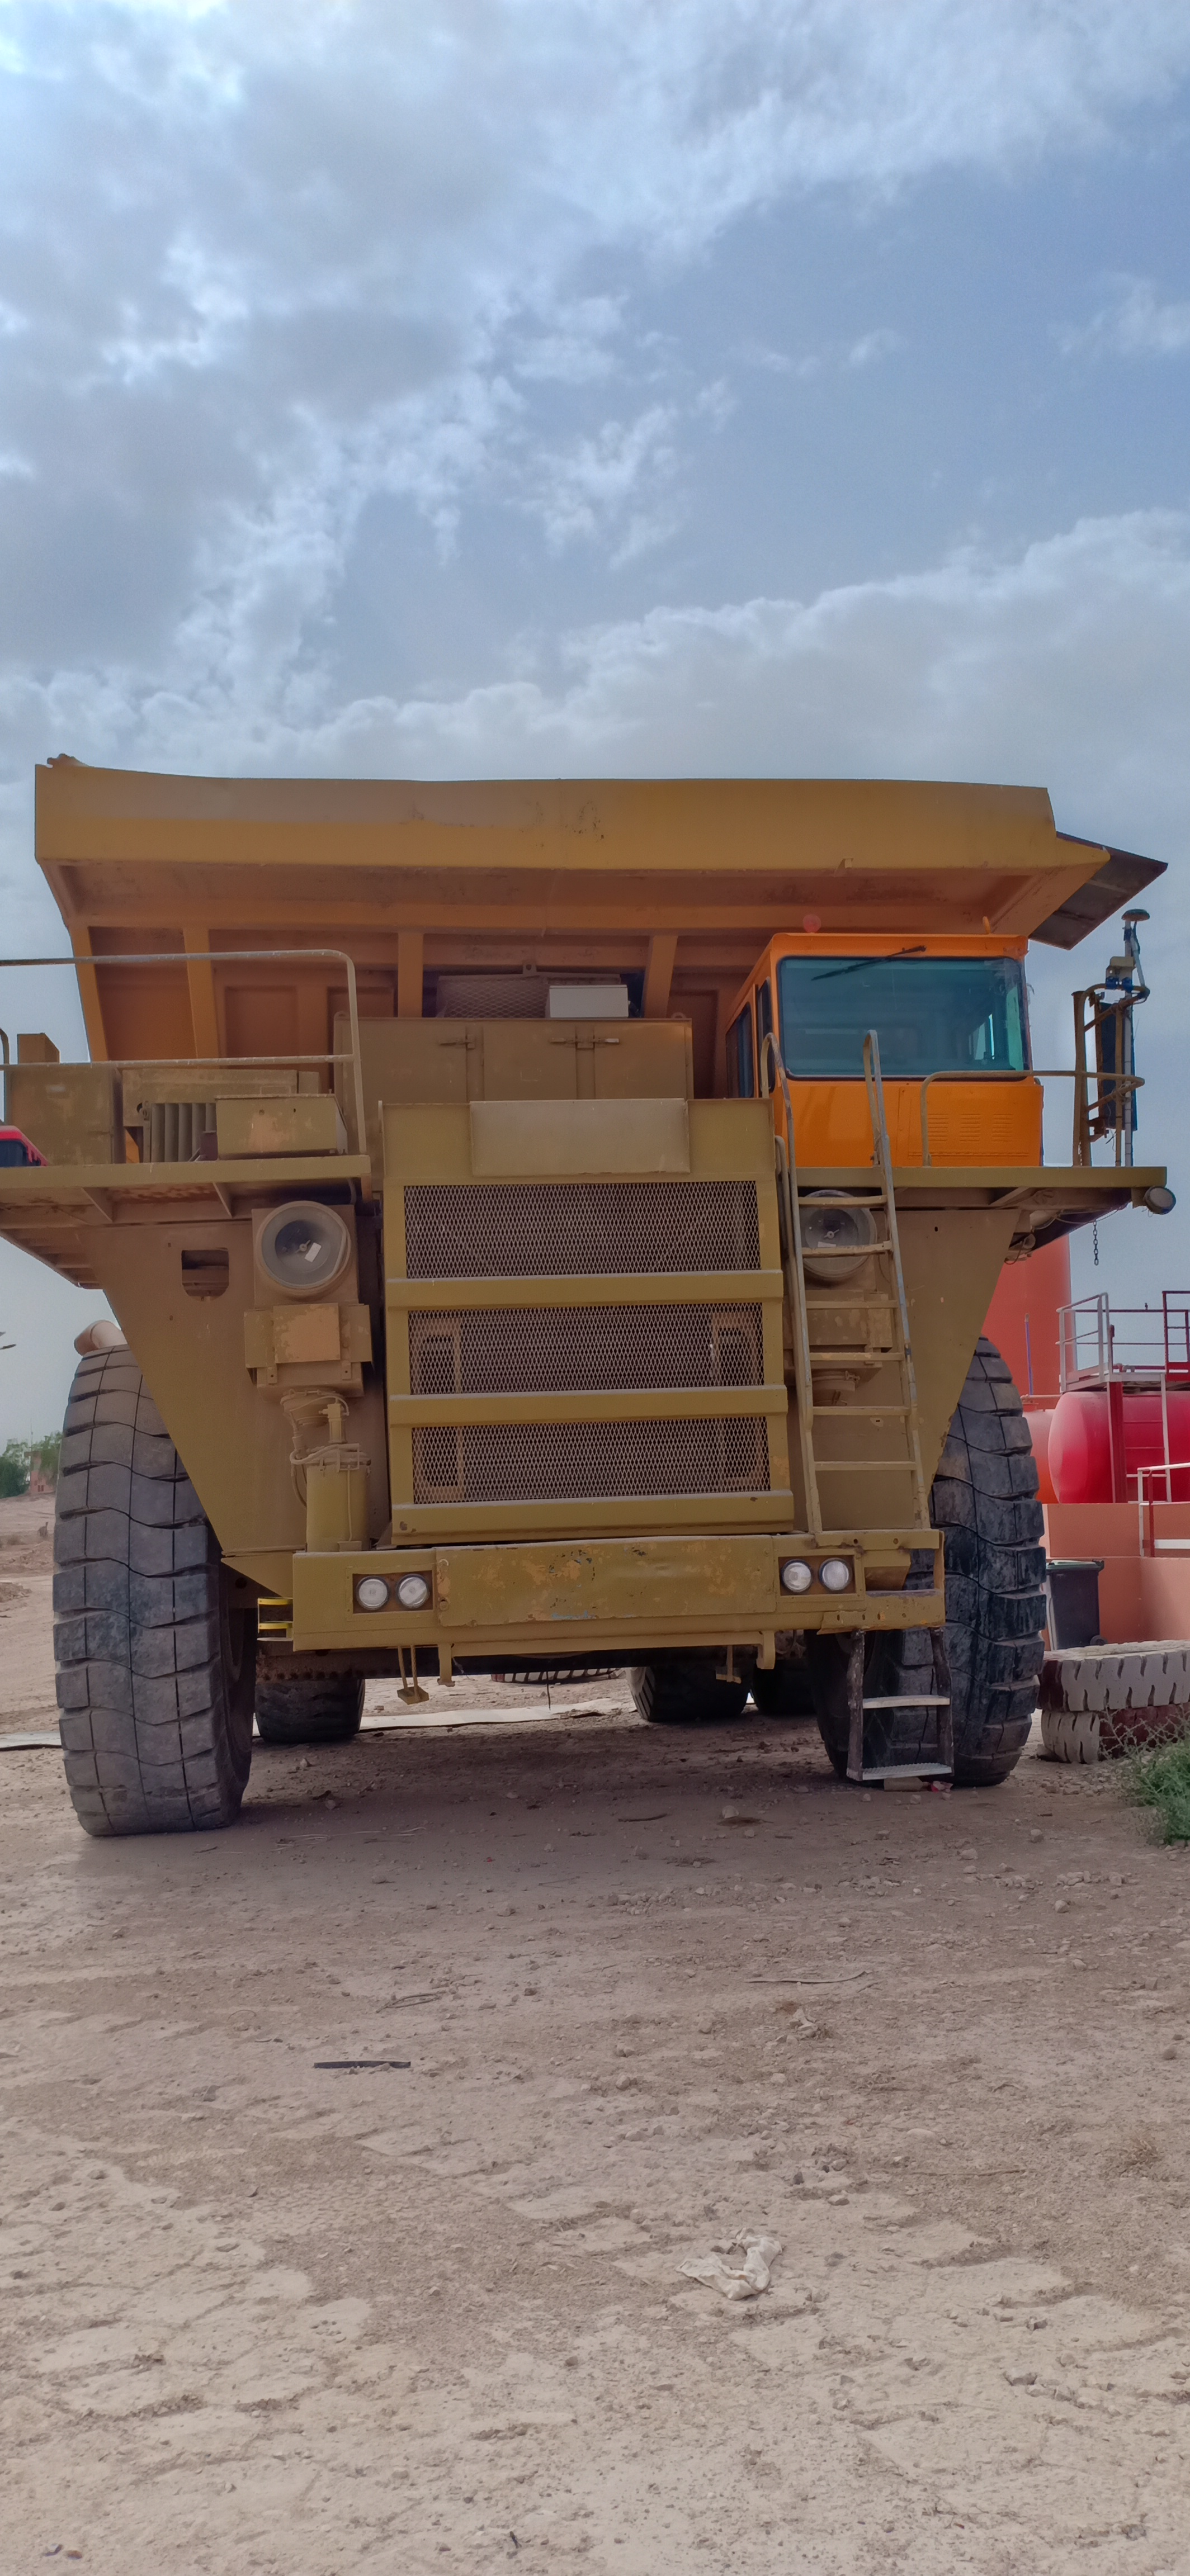camion: (21, 720, 1172, 1851)
